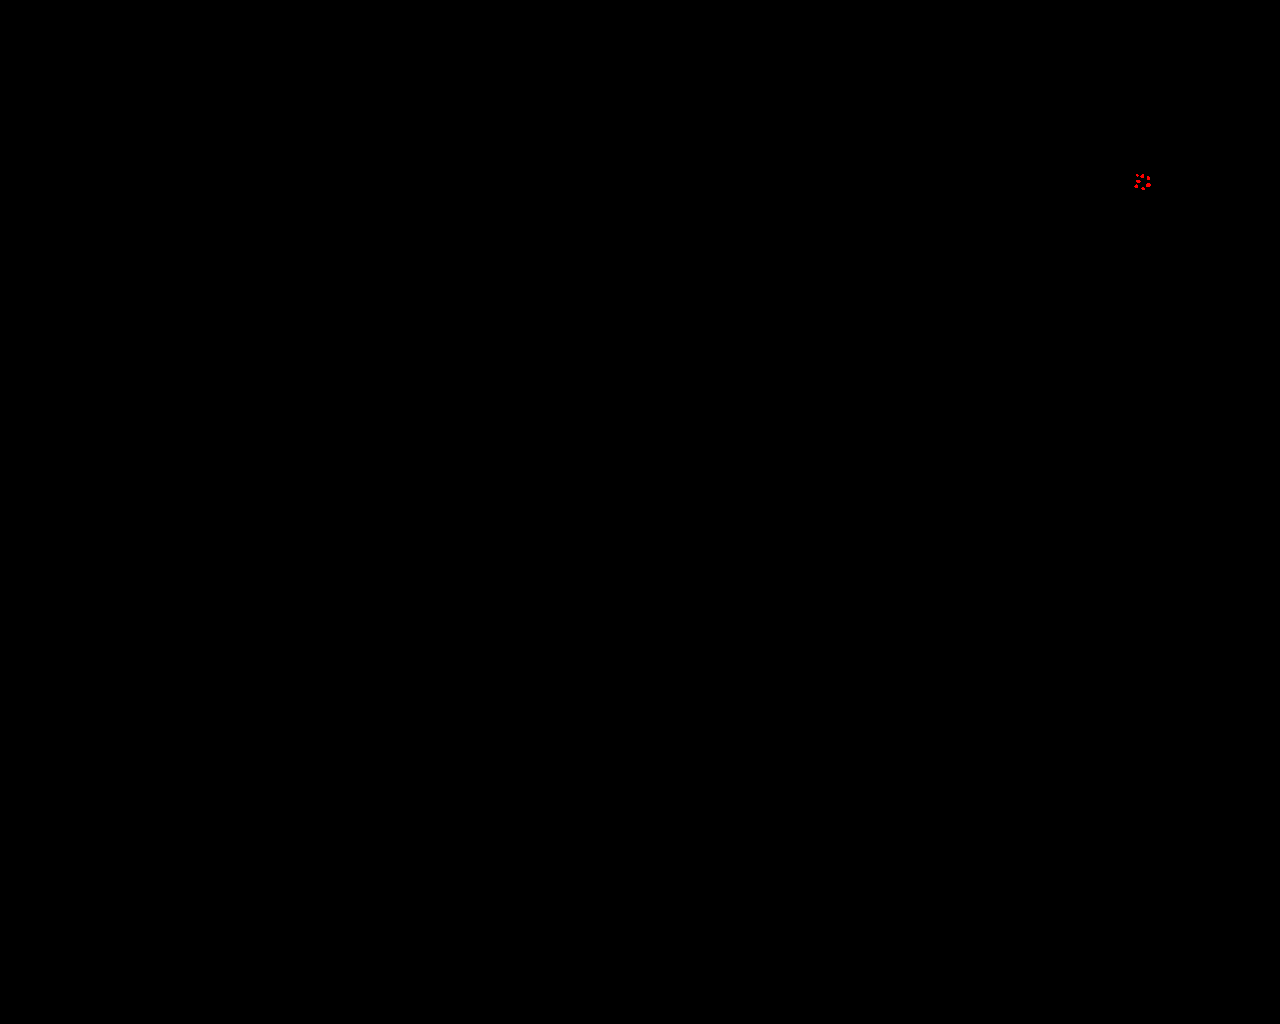Target: (1146, 183, 1151, 187), (1134, 184, 1138, 188), (1136, 180, 1141, 183), (1140, 174, 1144, 178), (1147, 176, 1150, 180), (1141, 187, 1145, 190), (1136, 174, 1139, 177)
